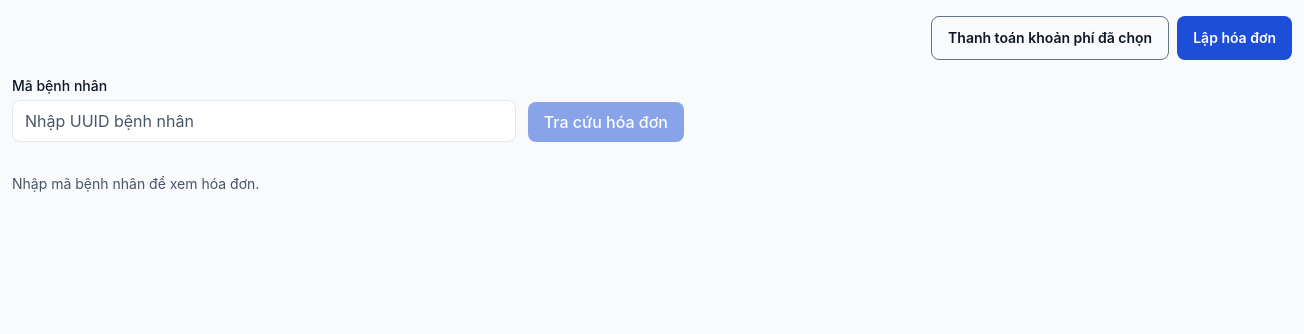
it: InvoiceLookup › uses the submitted patient for pagination and shows server amounts and terminal state
Type "00000000-0000-4000-8000-000000000001" into the field labelled "Mã bệnh nhân".
click(264, 121); type("00000000-0000-4000-8000-000000000001")  # box [12,100,516,142]
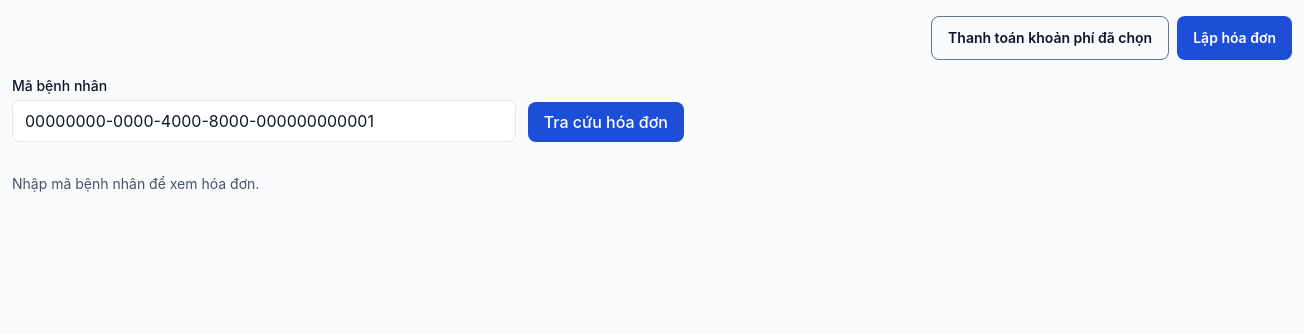
Click the button "Tra cứu hóa đơn".
click(606, 122)  # box [528,102,684,142]
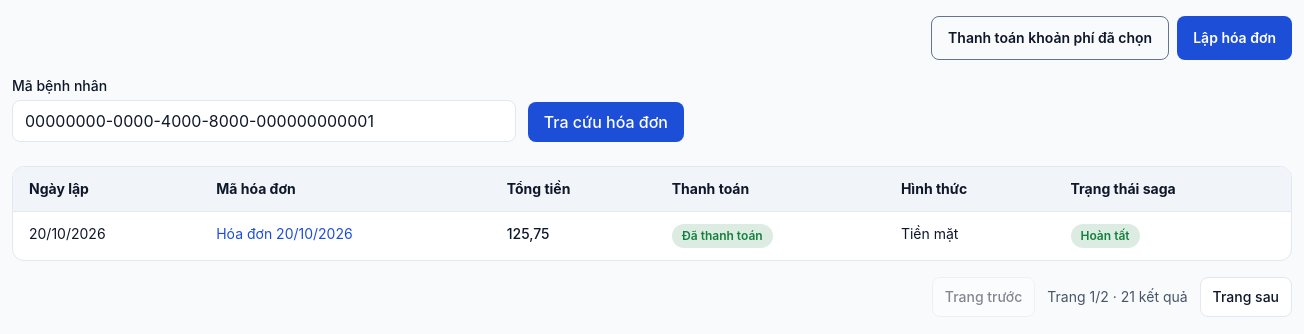
Now the text "Hoàn tất" is shown, box [1070,224,1140,248]
Replace the text in the field labelled "Mã bệnh nhân" with "unsubmitted-draft" at (264, 121), box [12,100,516,142]
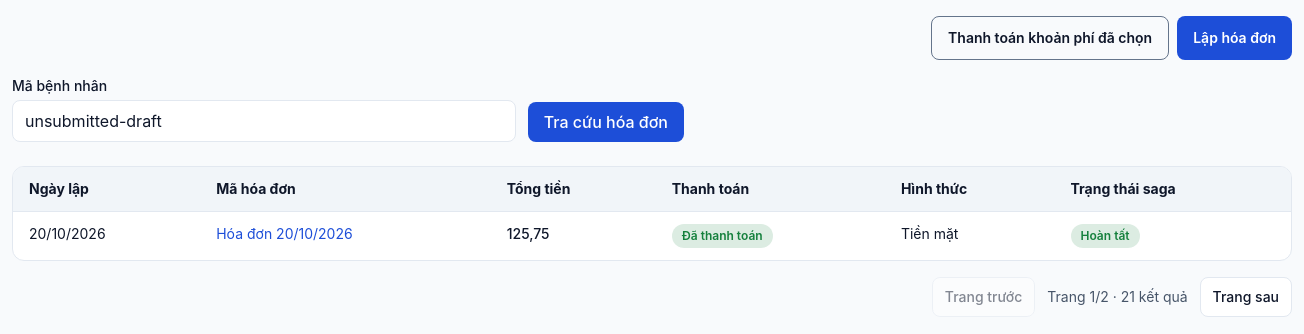
Click the button "Trang sau".
click(1246, 297)  # box [1200,277,1292,317]
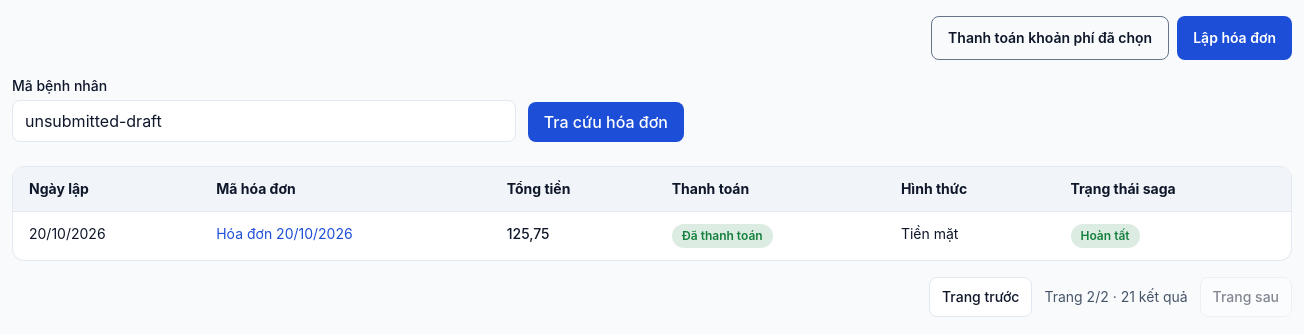
Now the button "Trang sau" is disabled, box [1200,277,1292,317]
